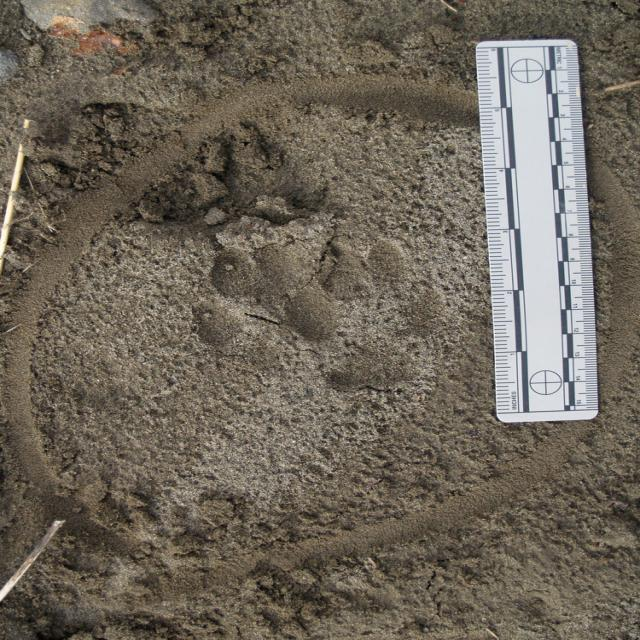canid: (288, 242, 450, 392)
